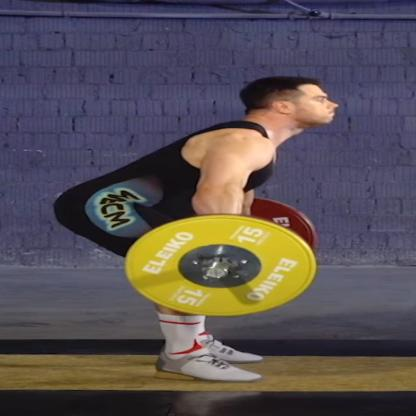barbell: (124, 215, 318, 318)
